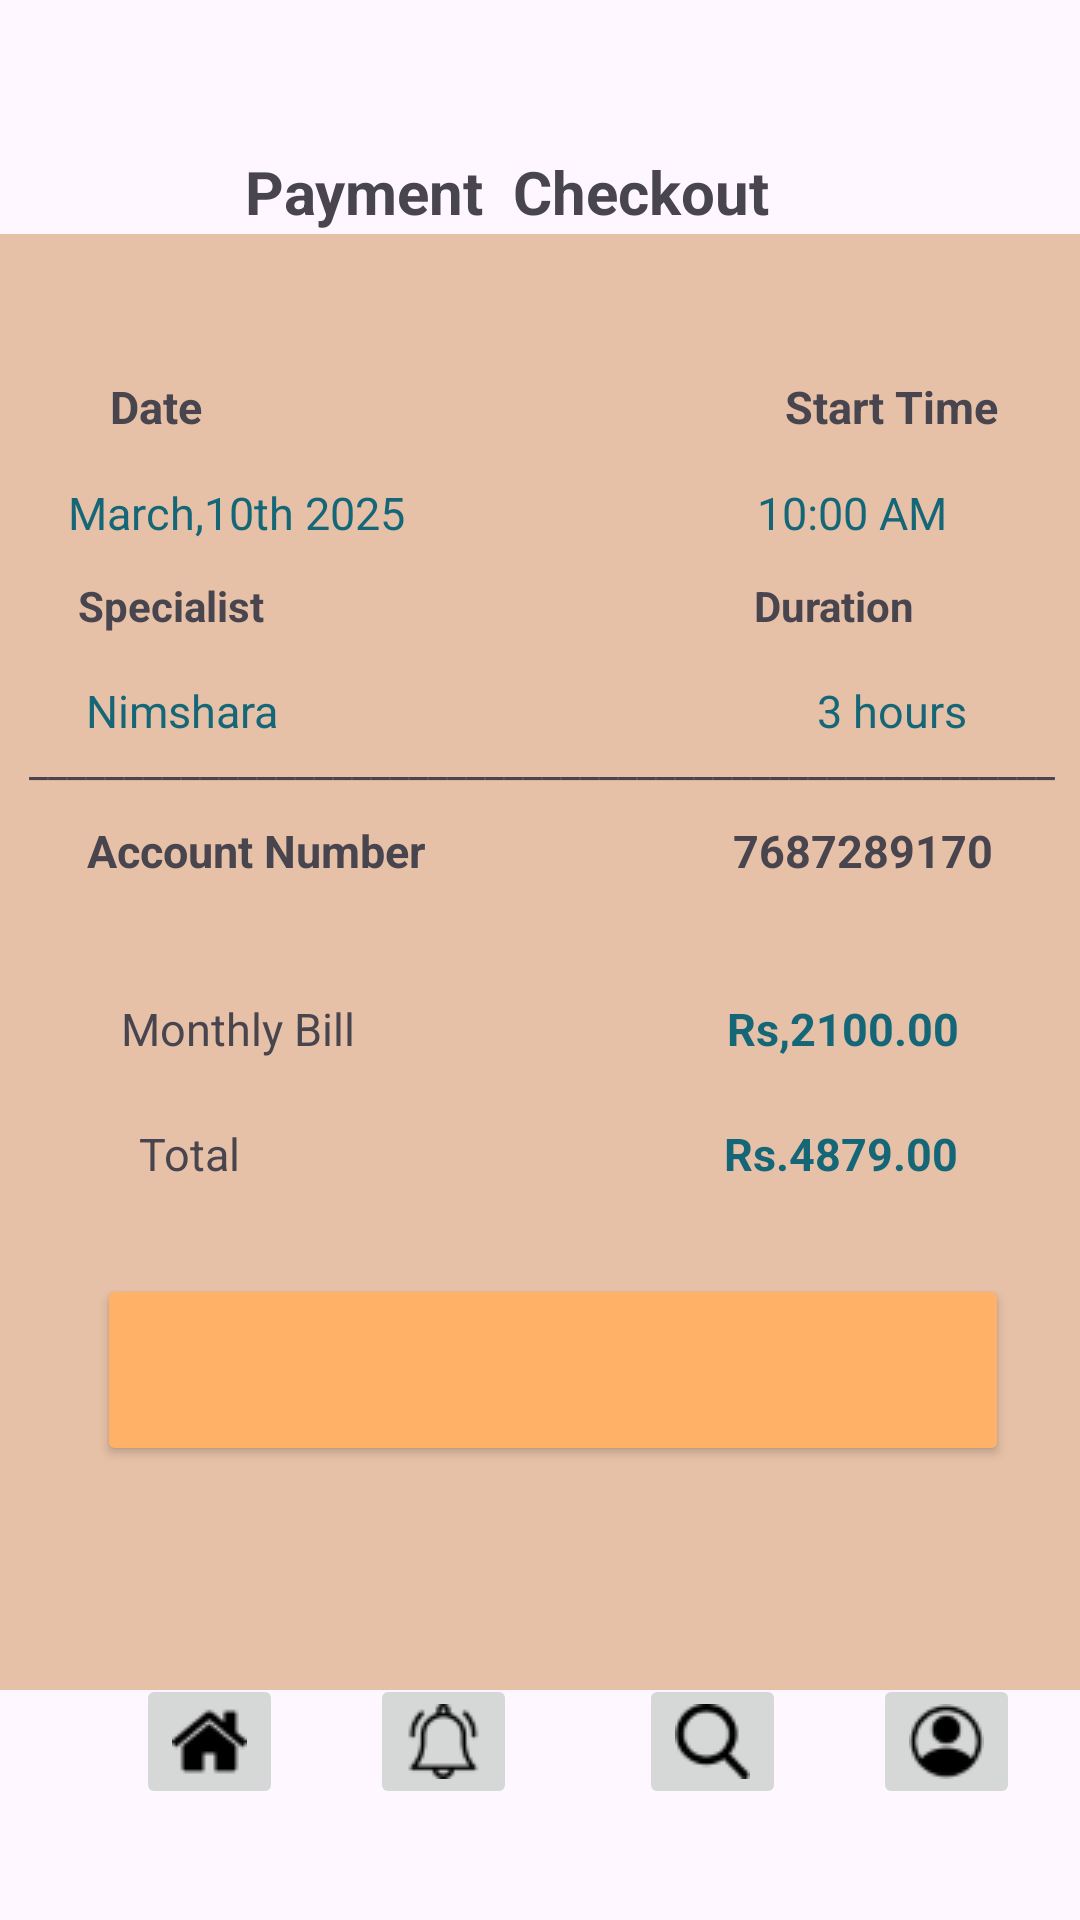

Screen size 1080×1920. Icon name, then its center in pixels as [x,y]:
account: [946,1741]
homenew: [209,1741]
notification: [443,1741]
search: [712,1741]
